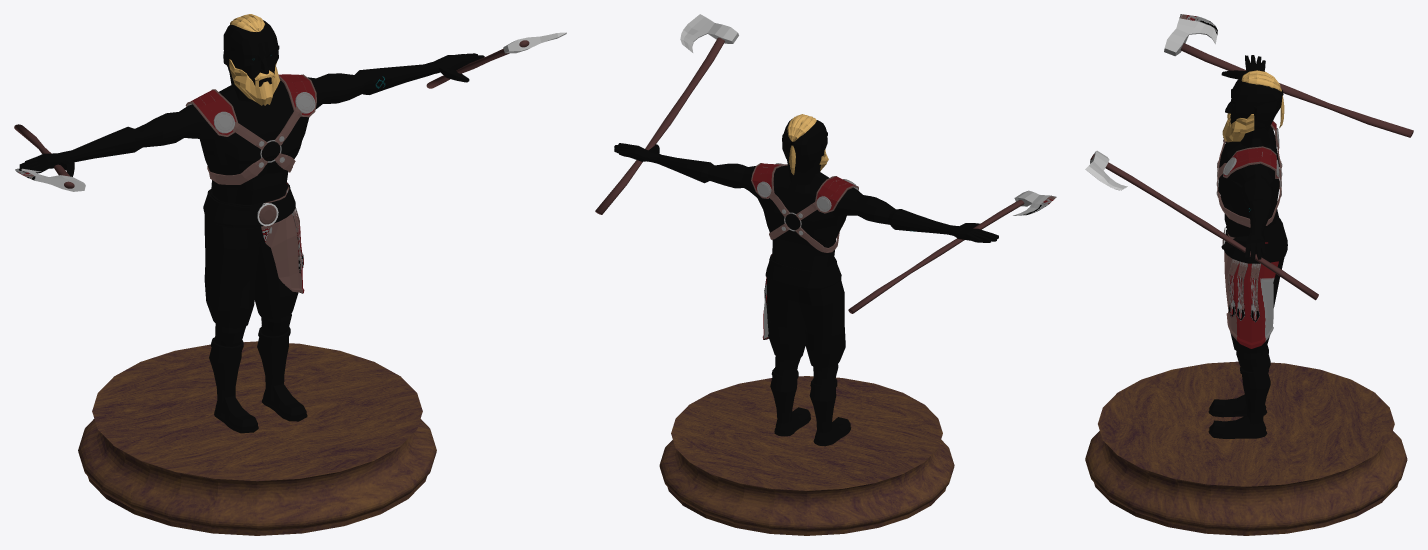
File: Pilaf.gltf
The picture shows the model from 3 angles, left to right: view 1: azimuth 30°, elevation 25°; view 2: azimuth 150°, elevation 25°; view 3: azimuth 270°, elevation 25°; orthographic projection. The views are drawn at different scales.
Visible parts, largest first — view 1: BézierCurve, Warrior.003, Plane.003, Warrior.001, Cylinder, Cylinder.001; view 2: BézierCurve, Warrior.003, Cylinder.001, Plane.003, Cylinder; view 3: BézierCurve, Warrior.003, Warrior.001, Cylinder, Cylinder.001, Plane.003.
Boxes of the visible parts, x1,y1,x2,y2 form: BézierCurve: (78,341,436,535); Warrior.003: (19,14,484,433); Plane.003: (185,74,316,184); Warrior.001: (261,182,304,293); Cylinder: (14,124,85,191); Cylinder.001: (426,32,566,88); BézierCurve: (659,376,954,535); Warrior.003: (614,114,998,446); Cylinder.001: (595,14,738,214); Plane.003: (751,163,858,252); Cylinder: (848,190,1056,313); BézierCurve: (1085,361,1407,535); Warrior.003: (1208,55,1287,438); Warrior.001: (1224,228,1278,348); Cylinder: (1164,14,1413,137); Cylinder.001: (1085,150,1318,300); Plane.003: (1216,121,1282,227).
Size of the model in its own units: 1.53 by 1.3 by 0.9736.
Materials: 15 (5 with a texture image).
